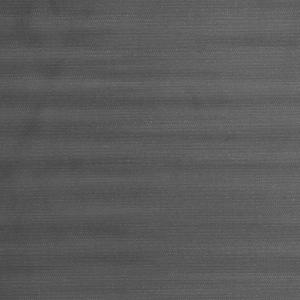Wrinkle: (1, 1, 126, 300)
